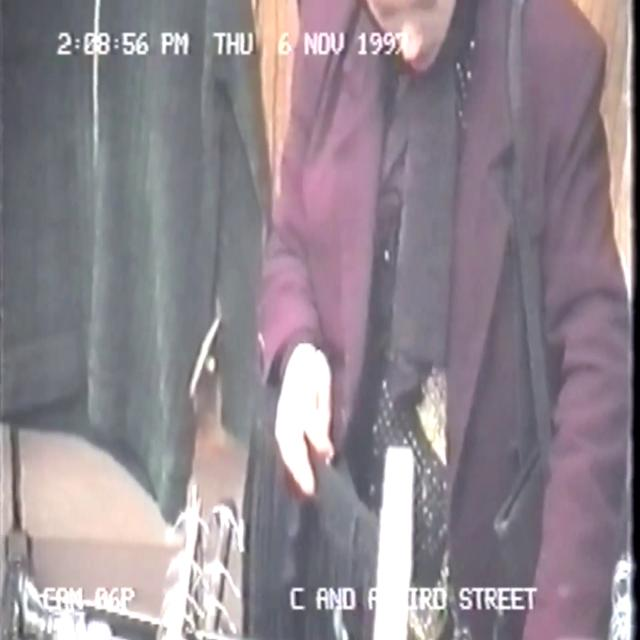Product: (252, 381, 383, 640)
shoplifting: (178, 0, 636, 640)
